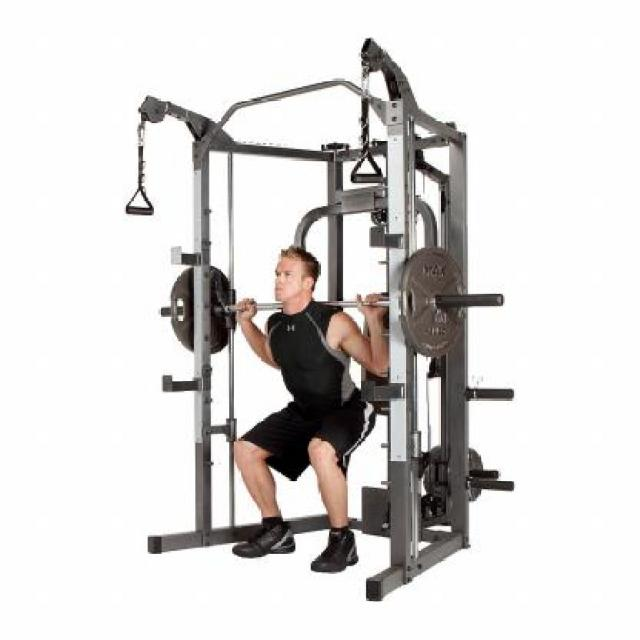smith machine: (126, 36, 514, 602)
